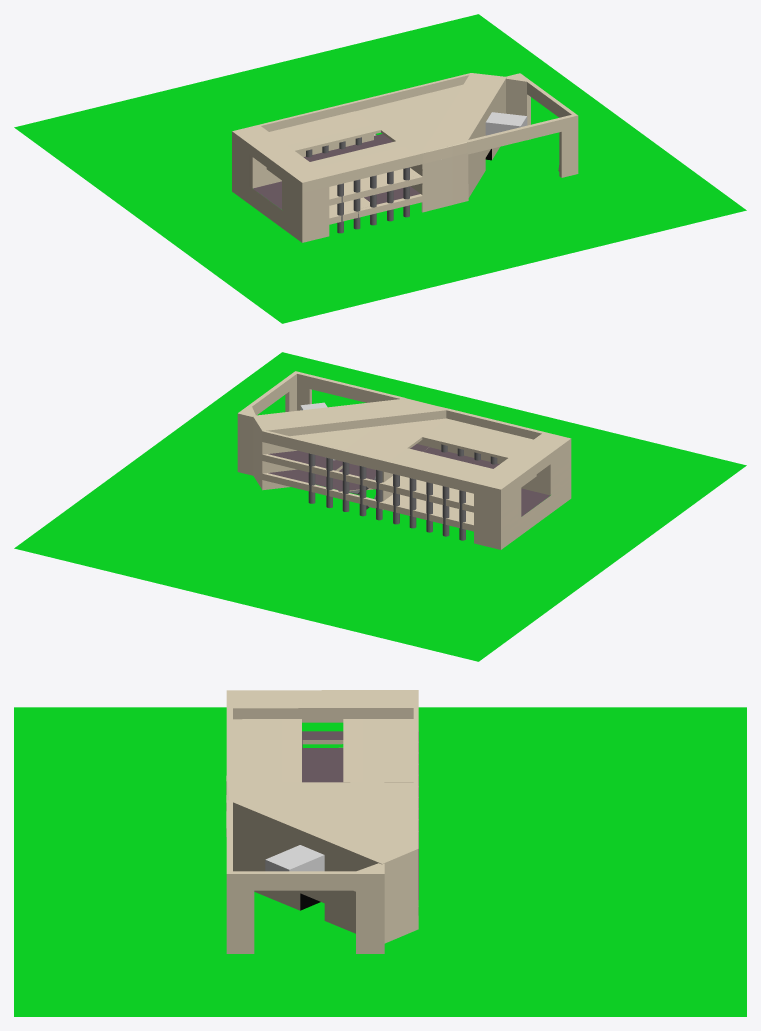
3 renders of one model, top to bottom at view 1: azimuth 30°, elevation 25°; view 2: azimuth 150°, elevation 25°; view 3: azimuth 270°, elevation 25°, orthographic. The views are drawn at different scales.
Parts seen in each view (by area): view 1: Plane, Cube, Cube.019, Cube.005; view 2: Plane, Cube, Cube.019; view 3: Plane, Cube, Cube.019, Cube.005.
Part boxes in pixels (<box>): Plane: <box>14,14,746,323</box>; Cube: <box>232,73,506,242</box>; Cube.019: <box>465,73,578,177</box>; Cube.005: <box>485,112,527,135</box>; Plane: <box>14,352,746,661</box>; Cube: <box>253,398,571,549</box>; Cube.019: <box>237,371,405,475</box>; Plane: <box>14,707,746,1016</box>; Cube: <box>226,690,418,943</box>; Cube.019: <box>226,800,384,953</box>; Cube.005: <box>265,845,324,871</box>.
Bounding box in the file's own units: 100000 × 12786 × 100000.
